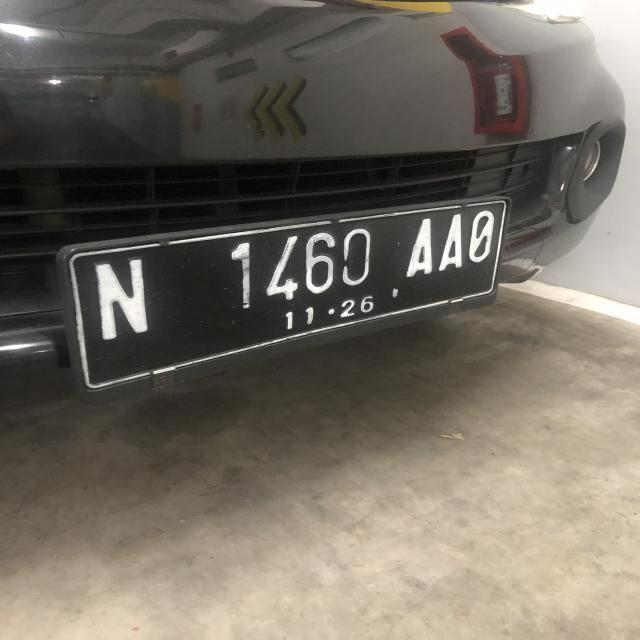0: (340, 228, 376, 289)
1: (228, 237, 258, 312)
4: (265, 232, 303, 302)
6: (304, 232, 338, 296)
A: (404, 216, 436, 282), (434, 213, 462, 279)
N: (94, 256, 150, 338)
O: (465, 208, 494, 268)
